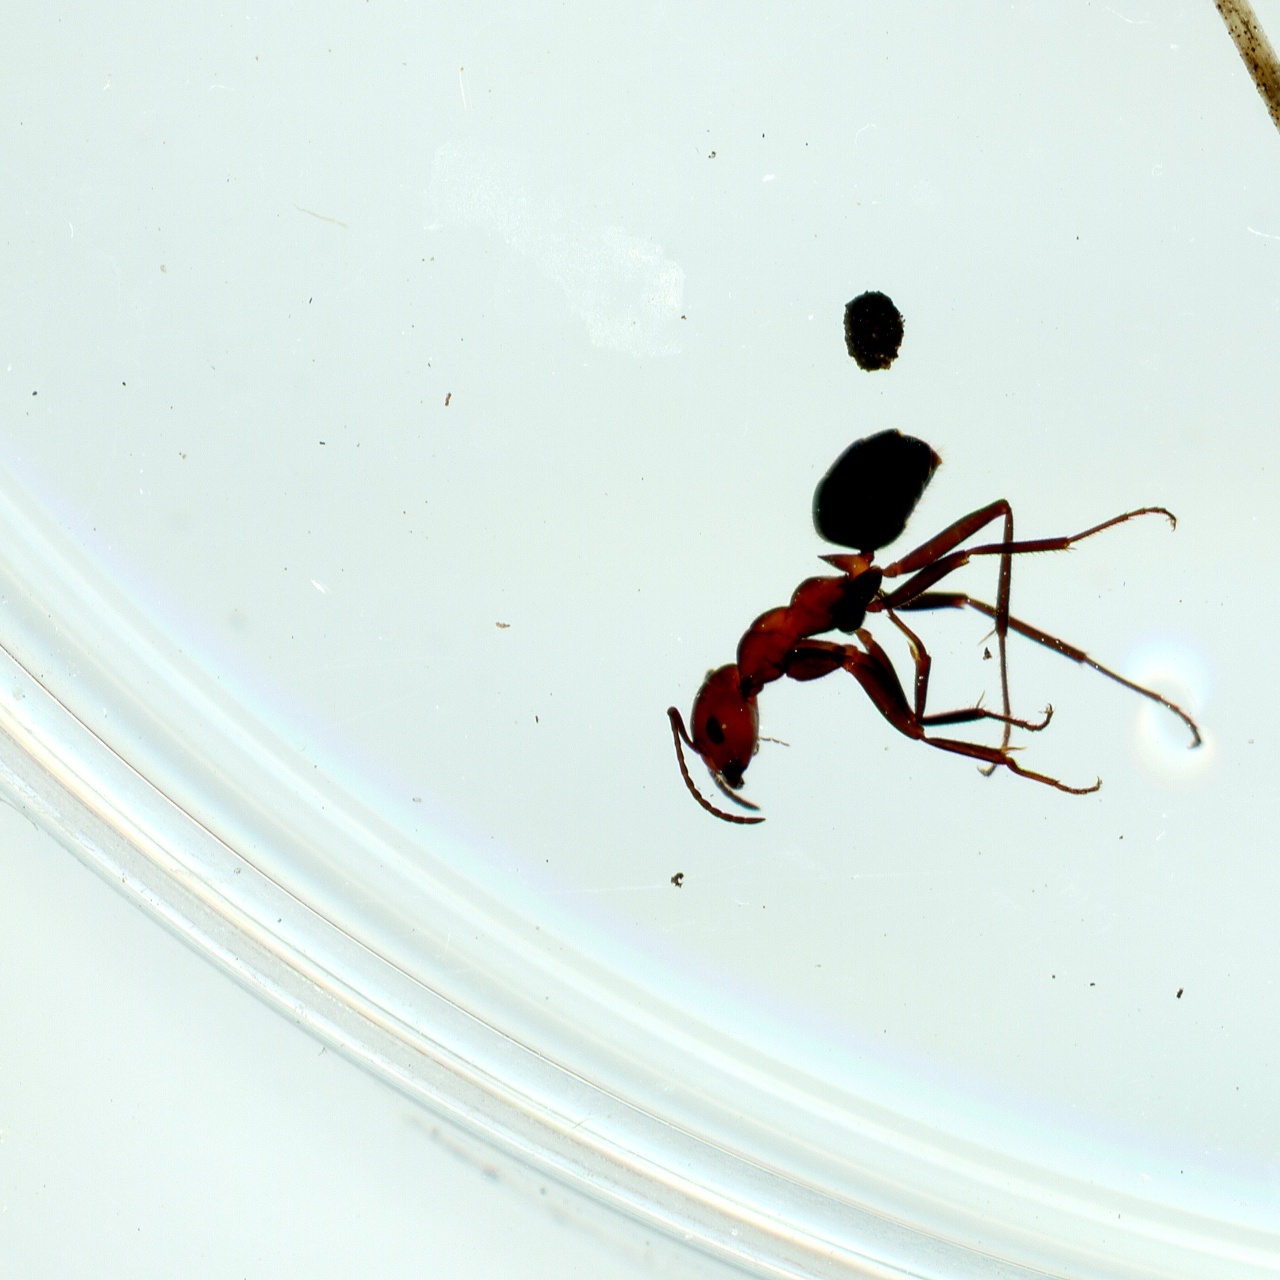arthropod: (663, 414, 1213, 831)
